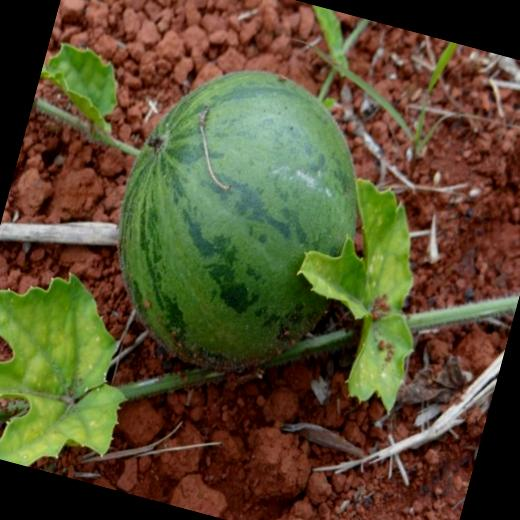Cherry: (86, 44, 389, 401)
